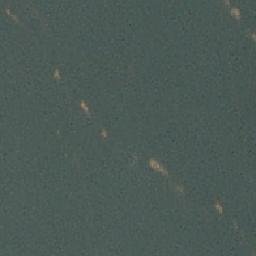debris: (224, 1, 243, 22), (148, 160, 164, 174), (80, 100, 91, 117), (51, 67, 60, 82), (100, 129, 108, 141), (215, 203, 222, 215)
